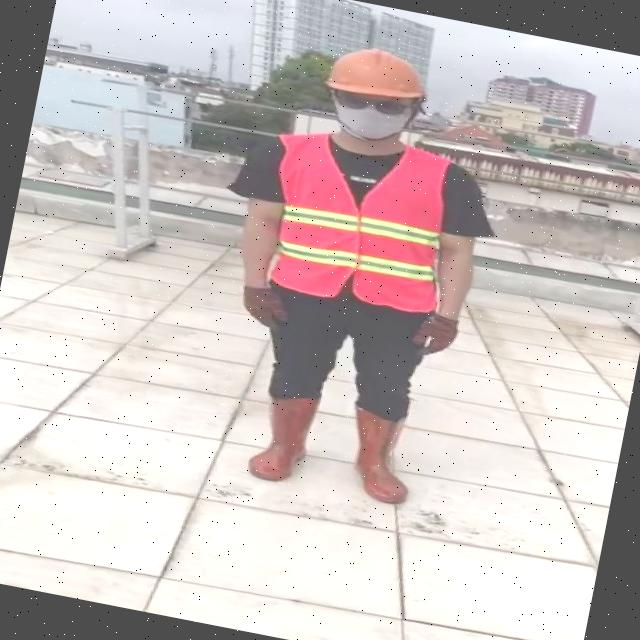boots: (337, 405, 422, 508), (246, 391, 320, 488)
